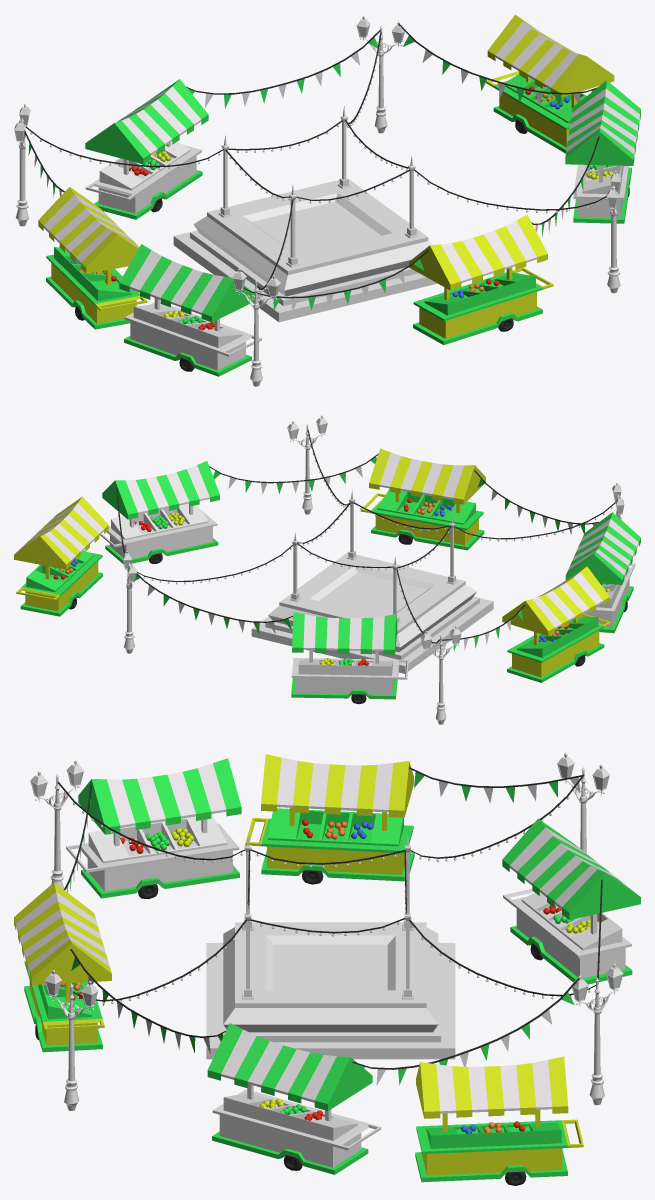
File: Marche_01.fbx
The picture shows the model from 3 angles, top to bottom: view 1: azimuth 30°, elevation 25°; view 2: azimuth 150°, elevation 25°; view 3: azimuth 270°, elevation 25°; orthographic projection. The views are drawn at different scales.
Visible parts, largest first — view 1: Cube.004, Roulotte_02.001, Roulotte_01, Roulotte_01.001, Roulotte_02, Roulotte_02.002, Roulotte_01.002, Lampadaire_Lampe.001, Lampadaire_Lampe.003, Cube.012, Cube.010, Lampadaire_Lampe.002 (+3 smaller); view 2: Cube.004, Roulotte_02.001, Roulotte_01.002, Roulotte_01.001, Roulotte_02, Roulotte_02.002, Roulotte_01, Lampadaire_Lampe.004, Lampadaire_Lampe.002, Cube.012, Cube.007, Lampadaire_Lampe.003 (+1 smaller); view 3: Cube.004, Roulotte_01, Roulotte_02, Roulotte_02.002, Roulotte_01.002, Roulotte_01.001, Roulotte_02.001, Lampadaire_Lampe.004, Lampadaire_Lampe.003, Lampadaire_Lampe.001, Cube.010, Lampadaire_Lampe.002 (+3 smaller).
Boxes of the visible parts, x1,y1,x2,y2 form: Cube.004: (173,106,437,322); Roulotte_02.001: (409,214,553,344); Roulotte_01: (119,244,261,376); Roulotte_01.001: (85,79,208,219); Roulotte_02: (38,187,147,329); Roulotte_02.002: (486,14,614,153); Roulotte_01.002: (565,80,640,223); Lampadaire_Lampe.001: (232,268,280,386); Lampadaire_Lampe.003: (356,16,405,133); Cube.012: (186,30,380,108); Cube.010: (398,24,597,107); Lampadaire_Lampe.002: (14,104,30,226); Cube.004: (251,490,493,673); Roulotte_02.001: (360,448,485,550); Roulotte_01.002: (100,461,219,564); Roulotte_01.001: (291,612,408,704); Roulotte_02: (502,566,610,682); Roulotte_02.002: (14,496,108,616); Roulotte_01: (565,512,640,633); Lampadaire_Lampe.004: (287,415,327,514); Lampadaire_Lampe.002: (420,626,461,724); Cube.012: (135,573,292,633); Cube.007: (209,453,378,493); Lampadaire_Lampe.003: (122,551,136,653); Cube.004: (206,833,455,1059); Roulotte_01: (66,758,241,898); Roulotte_02: (245,754,414,884); Roulotte_02.002: (415,1056,583,1185); Roulotte_01.002: (207,1023,381,1174); Roulotte_01.001: (502,818,640,984); Roulotte_02.001: (14,882,111,1052); Lampadaire_Lampe.004: (44,970,98,1110); Lampadaire_Lampe.003: (571,963,623,1105); Lampadaire_Lampe.001: (30,760,84,888); Cube.010: (352,978,579,1085); Lampadaire_Lampe.002: (557,753,610,853).
Bounding box in the file's own units: 2243 × 551 × 2898.
